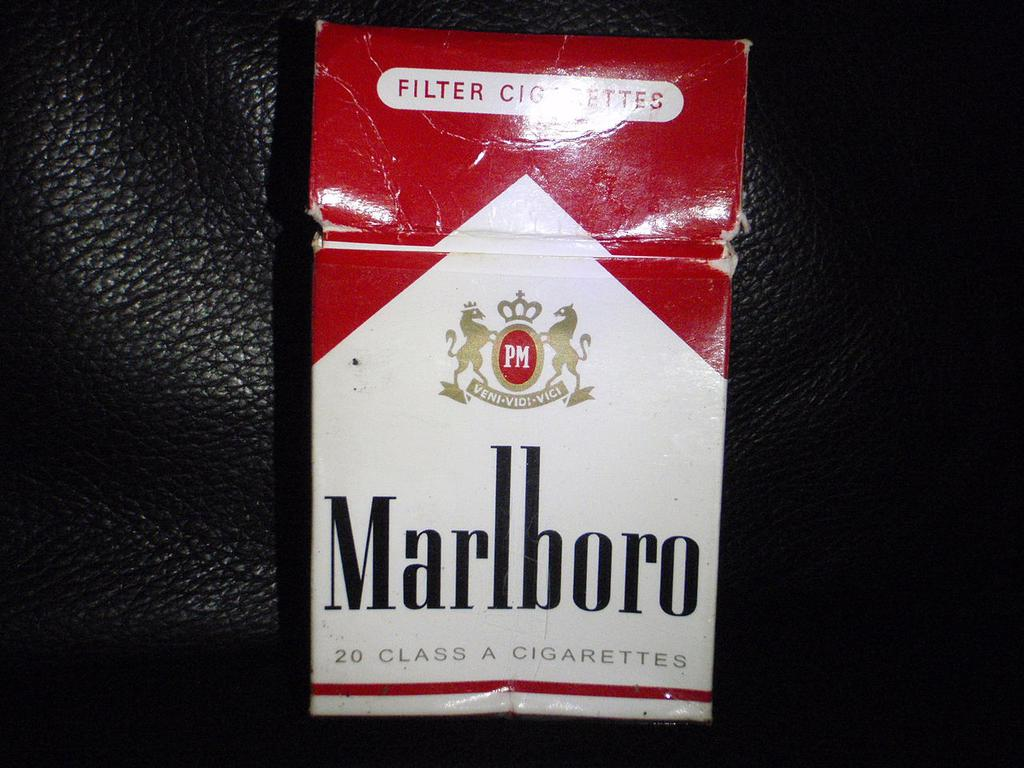marlboro_red: (303, 25, 727, 716)
